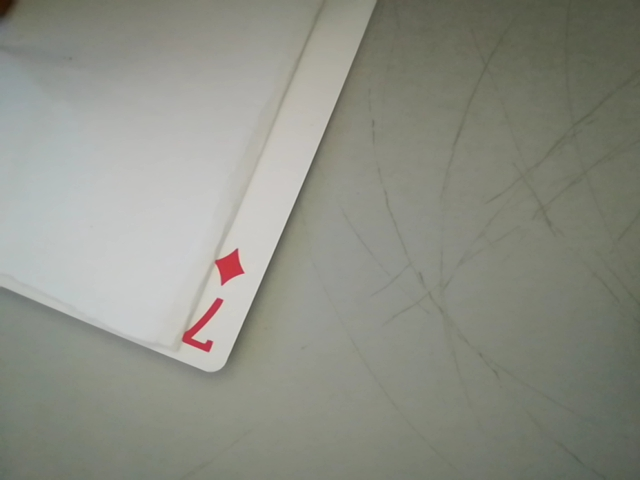fk 7: (174, 237, 257, 370)
